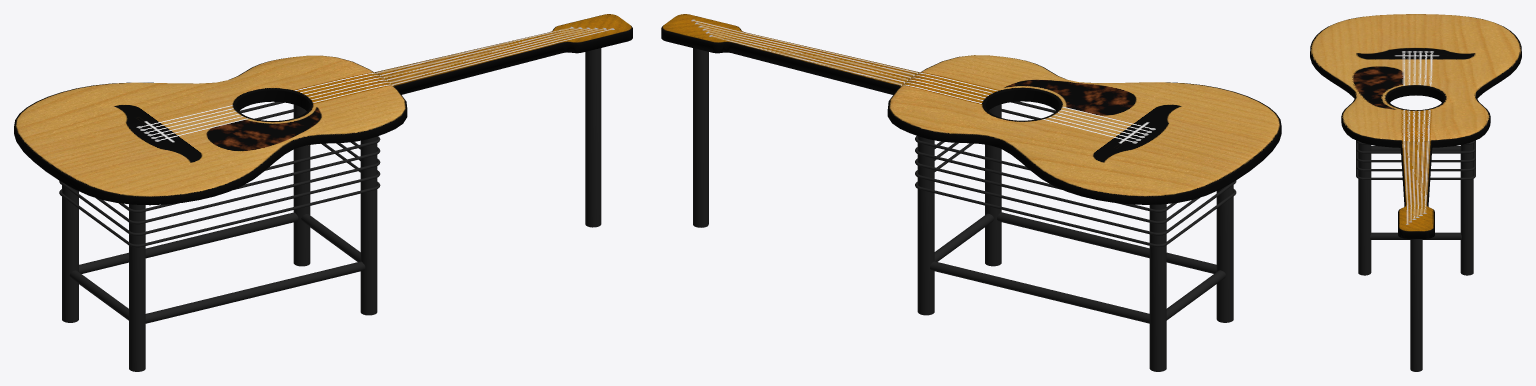
File: guitar-type-1.obj
3 renders of one model, left to right at view 1: azimuth 30°, elevation 25°; view 2: azimuth 150°, elevation 25°; view 3: azimuth 270°, elevation 25°, orthographic. The views are drawn at different scales.
Visible parts, largest first — view 1: pCube3, group1.003, group1.005, group1, group1.009, group1.002, group1.001, group1.011, group1.010, group1.006, group1.013, group1.008 (+3 smaller); view 2: pCube3, group1.003, group1.010, group1.005, group1.011, group1.001, group1.009, group1.002, group1, group1.006, group1.013, group1.008 (+3 smaller); view 3: pCube3, group1.003, group1.010, group1, group1.005, group1.012, group1.007, group1.006, group1.008, group1.013, group1.014.
Boxes of the visible parts, x1,y1,x2,y2 form: pCube3: (14, 55, 407, 205); group1.003: (375, 14, 632, 94); group1.005: (585, 48, 601, 227); group1: (360, 136, 377, 315); group1.009: (129, 204, 145, 371); group1.002: (145, 261, 365, 323); group1.001: (79, 212, 298, 273); group1.011: (62, 185, 78, 322); group1.010: (293, 104, 310, 266); group1.006: (59, 143, 380, 247); group1.013: (59, 143, 380, 235); group1.008: (96, 109, 380, 224); pCube3: (887, 55, 1281, 204); group1.003: (661, 14, 919, 94); group1.010: (917, 136, 934, 315); group1.005: (693, 48, 708, 227); group1.011: (1149, 204, 1166, 371); group1.001: (930, 261, 1149, 323); group1.009: (1216, 185, 1233, 322); group1.002: (997, 212, 1216, 273); group1: (985, 104, 1001, 266); group1.006: (915, 143, 1236, 247); group1.013: (915, 142, 1236, 235); group1.008: (915, 109, 1199, 223); pCube3: (1310, 14, 1521, 147); group1.003: (1398, 141, 1434, 238); group1.010: (1460, 143, 1473, 275); group1: (1358, 143, 1371, 275); group1.005: (1410, 239, 1422, 371); group1.012: (1370, 232, 1461, 239); group1.007: (1371, 146, 1460, 151); group1.006: (1356, 168, 1475, 179); group1.008: (1356, 150, 1475, 162); group1.013: (1356, 159, 1475, 171); group1.014: (1356, 141, 1475, 153).
Size of the model in its own units: 10.39 by 3.38 by 4.28.
Materials: 1 (1 with a texture image).
